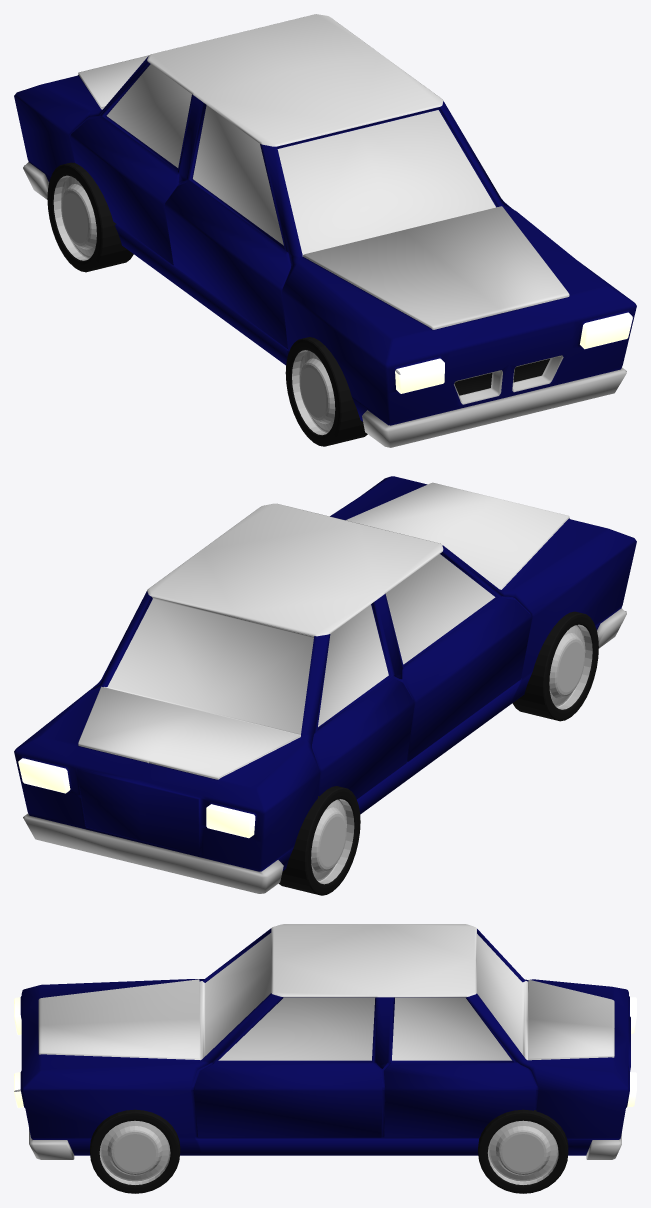
Rendered from sedan-car.fbx.
3 renders of one model, top to bottom at view 1: azimuth 30°, elevation 25°; view 2: azimuth 150°, elevation 25°; view 3: azimuth 270°, elevation 25°, orthographic. The views are drawn at different scales.
Visible parts, largest first — view 1: Cube; view 2: Cube; view 3: Cube.
Part boxes in pixels (x1,y1,x2,y2): Cube: [14, 14, 636, 447]; Cube: [14, 476, 636, 895]; Cube: [14, 924, 636, 1193].
Size of the model in its own units: 240 by 198 by 612.
